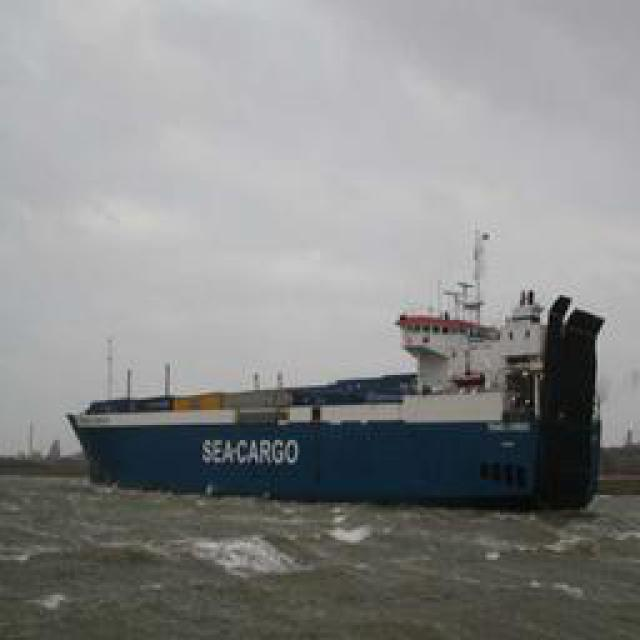Ship: (62, 287, 620, 507)
